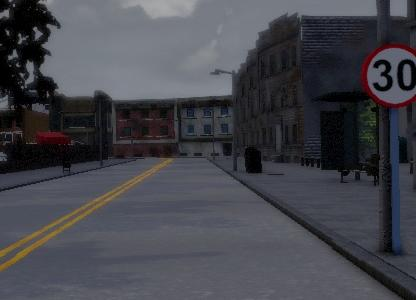Speed_30: (363, 43, 416, 107)
